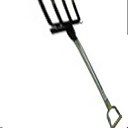fork: (34, 1, 128, 128)
